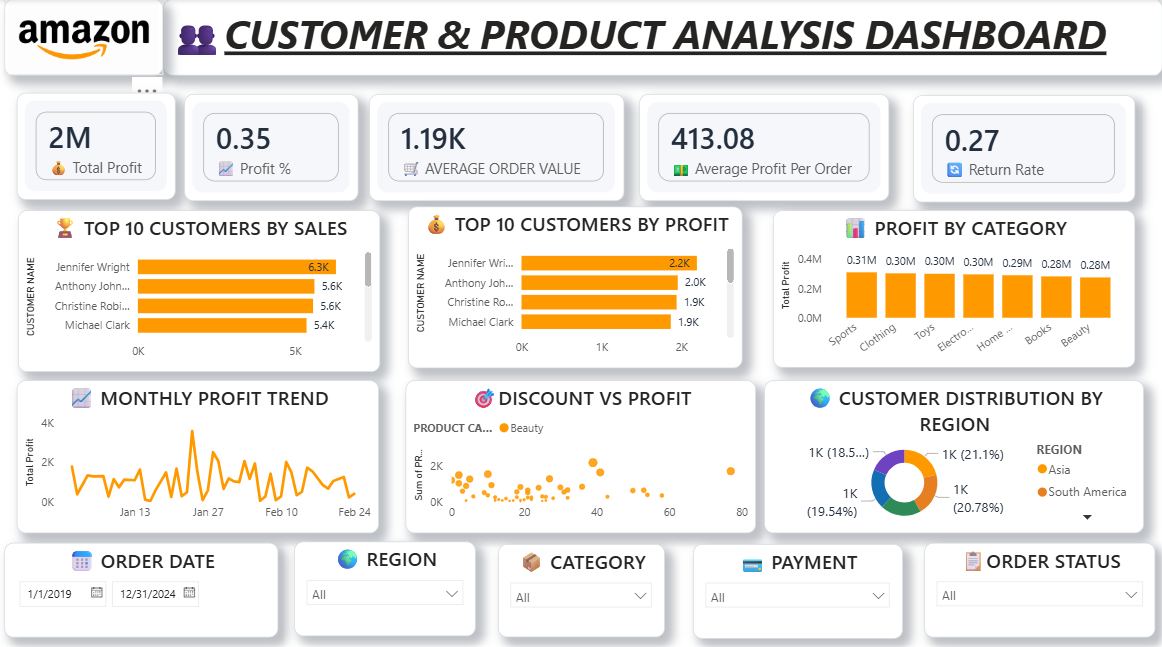

This screenshot's page, from the dashboard's own definition file:
{"tool":"powerbi","page":{"name":"Page 2","canvas":[1280,720],"ordinal":1},"visuals":[{"type":"textbox","box":[181.4,0,1098.6,84.3],"z":0},{"type":"image","box":[7.1,0,174.3,84.3],"z":1000},{"type":"cardVisual","fields":{"Data":["public amazon_sales.Total Profit"]},"box":[20.8,102.5,174.6,117.8],"z":2000},{"type":"cardVisual","fields":{"Data":["public amazon_sales.Profit %"]},"box":[205.1,103.9,191.2,117.8],"z":3000},{"type":"cardVisual","fields":{"Data":["public amazon_sales.AVERAGE ORDER VALUE"]},"box":[407.4,103.9,279.9,117.8],"z":4000},{"type":"cardVisual","fields":{"Data":["public amazon_sales.Average Profit Per Order"]},"box":[703.9,103.9,274.3,117.8],"z":5000},{"type":"cardVisual","fields":{"Data":["public amazon_sales.Return Rate"]},"box":[1004.5,105.3,243.9,117.8],"z":6000},{"type":"clusteredBarChart","title":"🏆 TOP 10 CUSTOMERS BY SALES","fields":{"Category":["public amazon_sales.CUSTOMER NAME"],"Y":["public amazon_sales.Total_Sales"]},"box":[22.2,231.4,397.7,177.4],"z":7000},{"type":"clusteredBarChart","title":"💰 TOP 10 CUSTOMERS BY PROFIT","fields":{"Category":["public amazon_sales.CUSTOMER NAME"],"Y":["public amazon_sales.Total Profit"]},"box":[450.3,227.2,367.2,177.4],"z":8000},{"type":"clusteredColumnChart","title":"📊 PROFIT BY CATEGORY","fields":{"Category":["public amazon_sales.PRODUCT CATEGORY"],"Y":["public amazon_sales.Total Profit"]},"box":[850.7,231.4,397.7,173.2],"z":9000},{"type":"lineChart","title":"📈 MONTHLY PROFIT TREND","fields":{"Y":["public amazon_sales.Total Profit"],"Category":["public amazon_sales.ORDER DATE.Variation.Date Hierarchy.Year","public amazon_sales.ORDER DATE.Variation.Date Hierarchy.Quarter","public amazon_sales.ORDER DATE.Variation.Date Hierarchy.Month","public amazon_sales.ORDER DATE.Variation.Date Hierarchy.Day"]},"box":[20.8,418.4,397.7,167.7],"z":10000},{"type":"scatterChart","title":"🎯DISCOUNT VS PROFIT","fields":{"X":["Sum(public amazon_sales.DISCOUNT)"],"Y":["Sum(public amazon_sales.PROFIT MARGIN)"],"Category":["public amazon_sales.PRODUCT NAME"],"Series":["public amazon_sales.PRODUCT CATEGORY"],"Size":["public amazon_sales.Total_Sales"]},"box":[447.5,418.4,385.2,167.7],"z":11000},{"type":"donutChart","title":"🌍 CUSTOMER DISTRIBUTION BY REGION","fields":{"Category":["public amazon_sales.REGION"],"Y":["public amazon_sales.Unique Customers"]},"box":[841.1,418.4,417.1,167.7],"z":12000},{"type":"slicer","title":" 📅 ORDER DATE","fields":{"Values":["public amazon_sales.ORDER DATE"]},"box":[6.9,597.2,300.7,103.9],"z":13000},{"type":"slicer","title":"🌍 REGION","fields":{"Values":["public amazon_sales.REGION"]},"box":[325.6,595.8,199.5,103.9],"z":14000},{"type":"slicer","title":" 📦 CATEGORY","fields":{"Values":["public amazon_sales.PRODUCT CATEGORY"]},"box":[548.7,598.6,182.9,102.5],"z":15000},{"type":"slicer","title":"💳  PAYMENT ","fields":{"Values":["public amazon_sales.PAYMENT METHOD"]},"box":[763.5,598.6,230,103.9],"z":16000},{"type":"slicer","title":"📋ORDER STATUS","fields":{"Values":["public amazon_sales.ORDER STATUS"]},"box":[1017,597.2,253.6,103.9],"z":17000}]}

Visuals, with their boxes in screenshot pixels (x1, y1, x2, y2), scaled from the page's 1280x720 canvas onto the 1162x647 screenshot:
textbox: BBox(165, 0, 1161, 76)
image: BBox(6, 0, 165, 76)
cardVisual - public amazon_sales.Total Profit: BBox(19, 92, 177, 198)
cardVisual - public amazon_sales.Profit %: BBox(186, 93, 360, 199)
cardVisual - public amazon_sales.AVERAGE ORDER VALUE: BBox(370, 93, 624, 199)
cardVisual - public amazon_sales.Average Profit Per Order: BBox(639, 93, 888, 199)
cardVisual - public amazon_sales.Return Rate: BBox(912, 95, 1133, 200)
"🏆 TOP 10 CUSTOMERS BY SALES" clusteredBarChart: BBox(20, 208, 381, 367)
"💰 TOP 10 CUSTOMERS BY PROFIT" clusteredBarChart: BBox(409, 204, 742, 364)
"📊 PROFIT BY CATEGORY" clusteredColumnChart: BBox(772, 208, 1133, 364)
"📈 MONTHLY PROFIT TREND" lineChart: BBox(19, 376, 380, 527)
"🎯DISCOUNT VS PROFIT" scatterChart: BBox(406, 376, 756, 527)
"🌍 CUSTOMER DISTRIBUTION BY REGION" donutChart: BBox(764, 376, 1142, 527)
" 📅 ORDER DATE" slicer: BBox(6, 537, 279, 630)
"🌍 REGION" slicer: BBox(296, 535, 477, 629)
" 📦 CATEGORY" slicer: BBox(498, 538, 664, 630)
"💳  PAYMENT " slicer: BBox(693, 538, 902, 631)
"📋ORDER STATUS" slicer: BBox(923, 537, 1153, 630)
